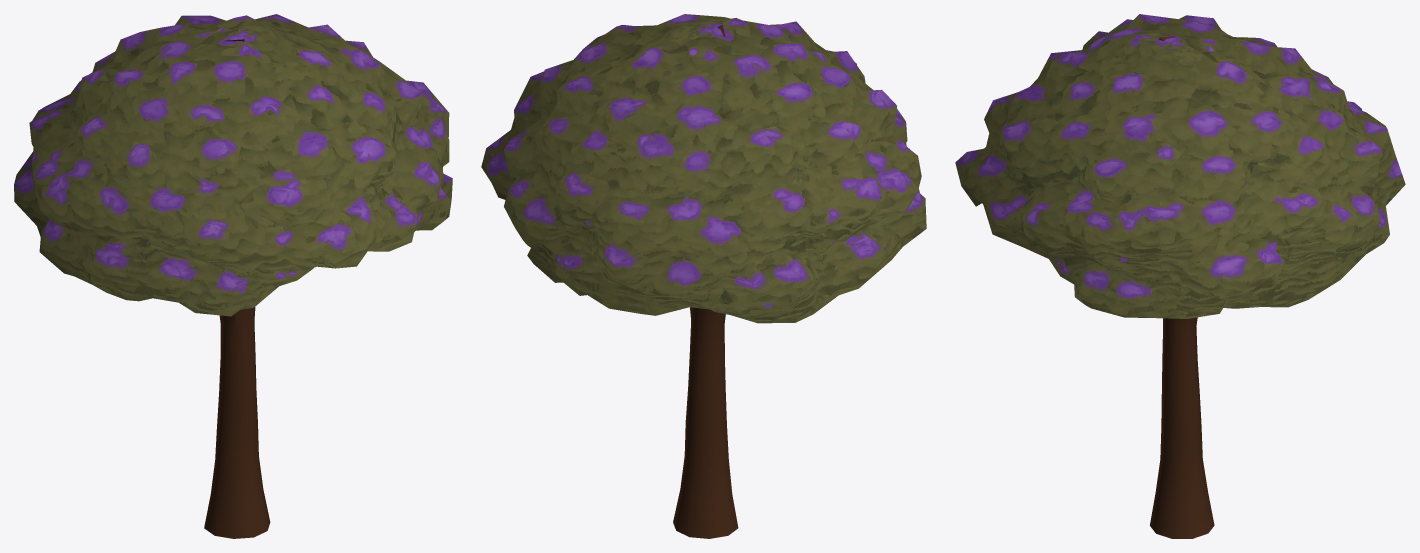
File: tree_round_b.glb
The picture shows the model from 3 angles, left to right: view 1: azimuth 30°, elevation 25°; view 2: azimuth 150°, elevation 25°; view 3: azimuth 270°, elevation 25°; orthographic projection. The views are drawn at different scales.
Parts seen in each view (by area): view 1: body; view 2: body; view 3: body.
Part boxes in pixels (<box>): body: <box>14,14,452,538</box>; body: <box>481,14,926,538</box>; body: <box>955,14,1405,538</box>.
Bounding box in the file's own units: 3.67 × 4.39 × 3.69.
Materials: 2 (2 with a texture image).
